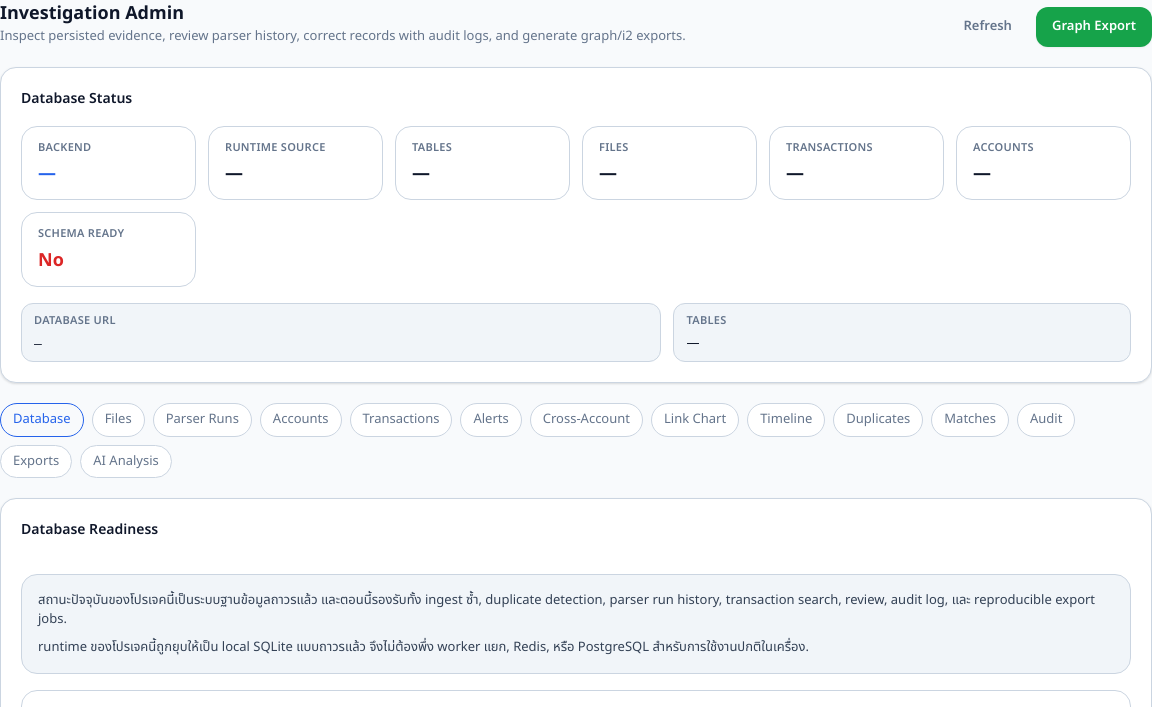
Scenario: InvestigationDesk date formatting › renders file, parser run, and audit dates as DD MM YYYY
Click the button "Files". click: point(118, 420)
box: [92,403,145,437]
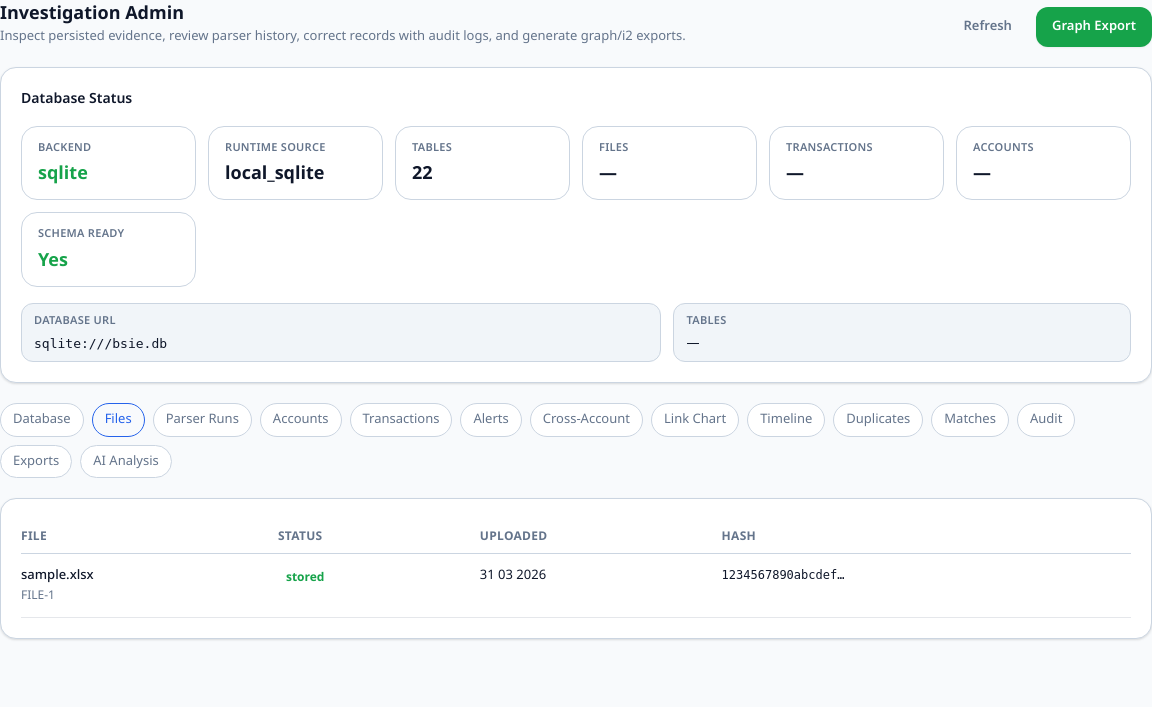
Check: the text "31 03 2026" is shown, box [480,554,722,618]
Click the button "Parser Runs". click: point(202, 420)
box: [153,403,252,437]
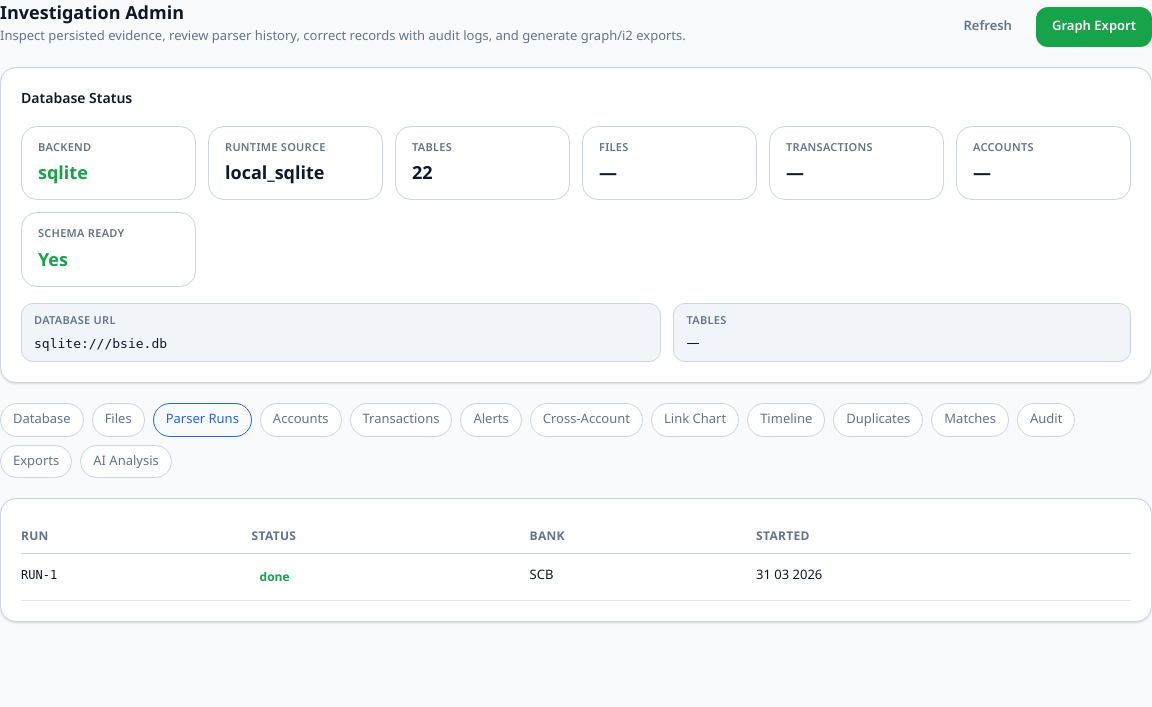
Check: the text "31 03 2026" is shown, box [756,554,1131,601]
Click the button "Audit". click: point(1046, 420)
box: [1017,403,1075,437]
(page scrolled)
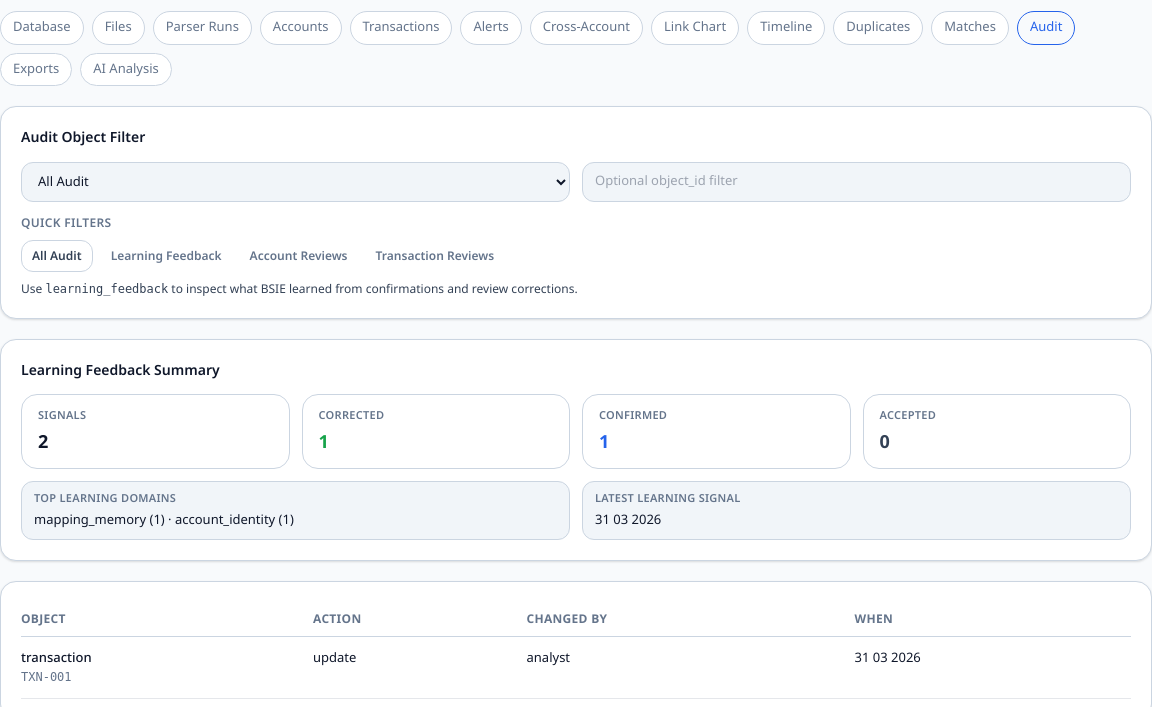
Check: the text "31 03 2026" is shown, box [595,510,661,530]
